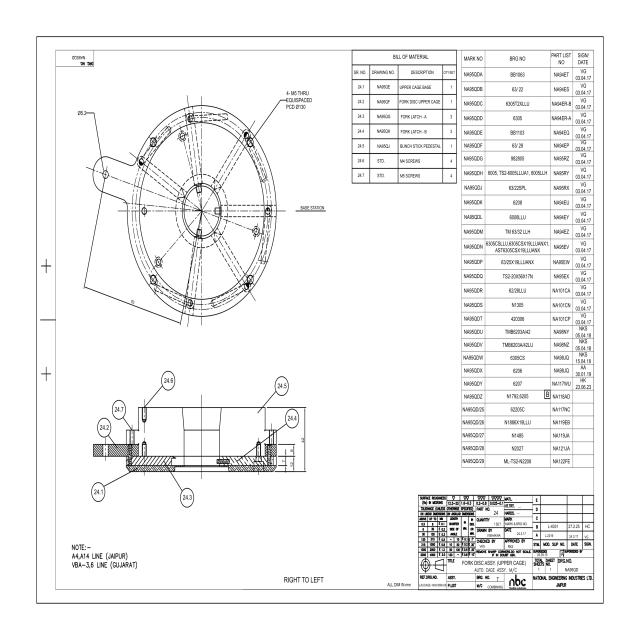dimension: (285, 89, 314, 110), (77, 109, 88, 118), (128, 298, 136, 306), (300, 436, 305, 446), (289, 461, 294, 469), (281, 458, 286, 464), (289, 448, 294, 453)
